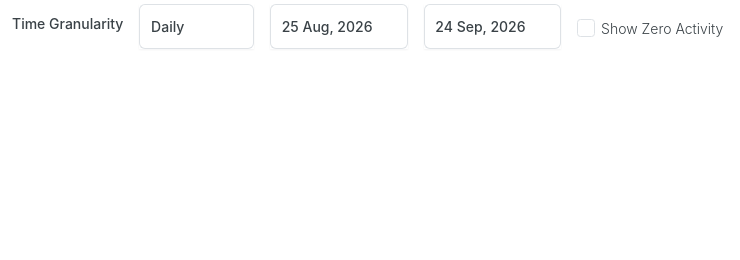
Test case: DataFilterOptions › changes time granularity and fetches data
Click the element with test id "time-granularity-selection" at (197, 26), box [139,4,254,49]
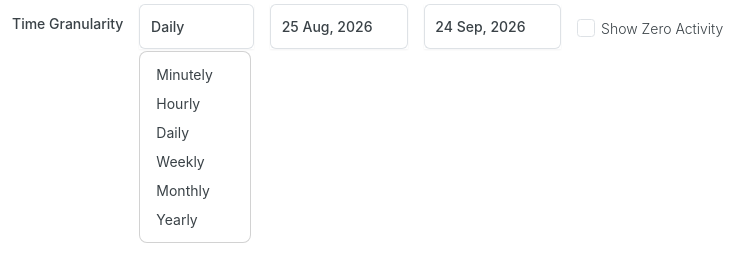
Expected: the element with test id "time-granularity-menu" is shown, [139,51,251,243]
Click the button "Daily" at (173, 132), box [156,124,189,141]
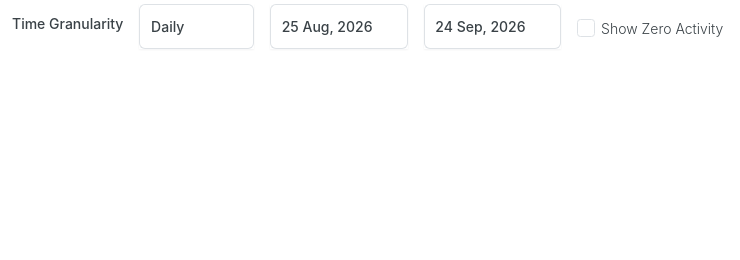
Click the element with test id "time-granularity-selection" at (197, 26), box [139,4,254,49]
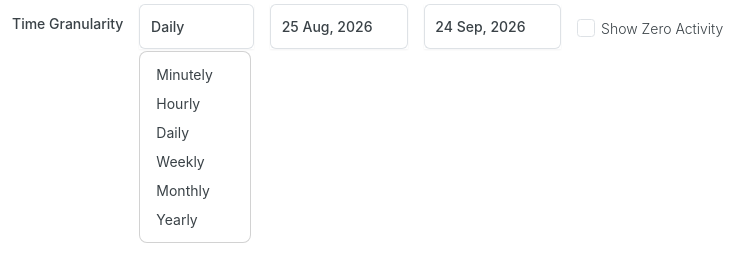
Expected: the element with test id "time-granularity-menu" is shown, [139,51,251,243]
Click the button "Monthly" at (183, 190), box [156,182,210,199]
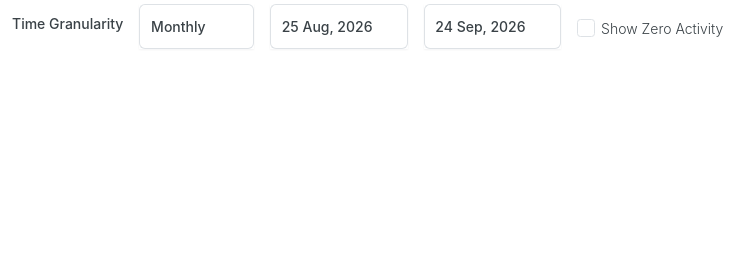
Expected: the text with test id "selected-time-granularity" reads "Monthly", [151,18,206,35]
